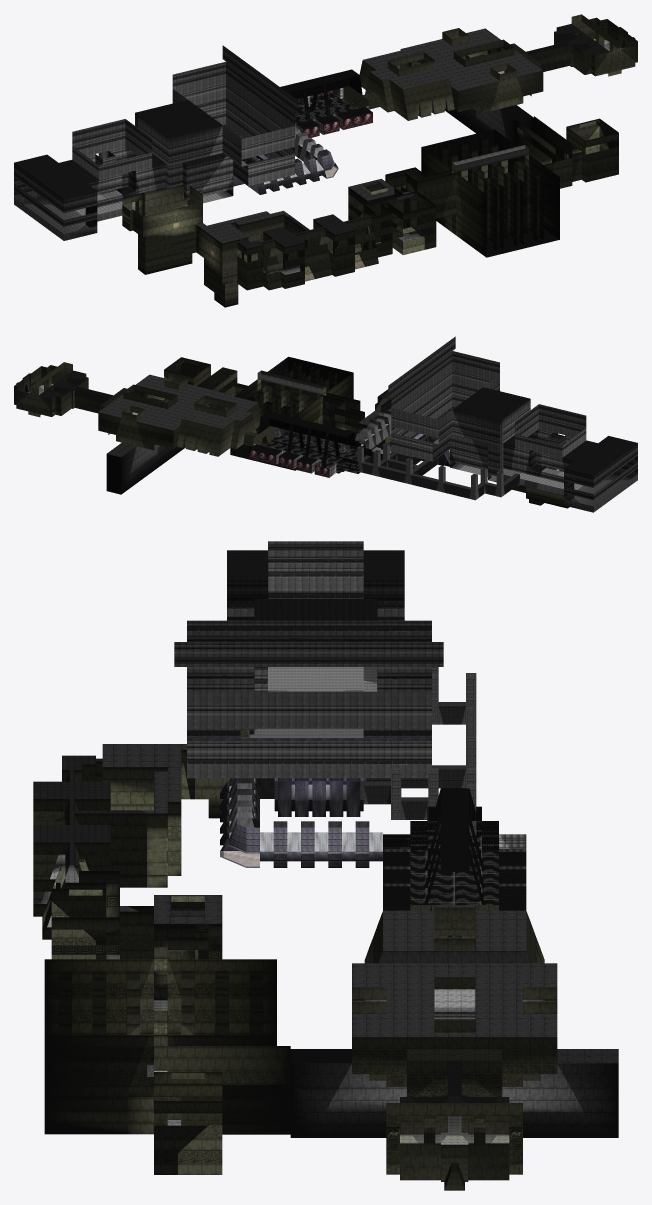
Rendered from Aztec.glb.
3 views of the same model, one above another, from view 1: azimuth 30°, elevation 25°; view 2: azimuth 150°, elevation 25°; view 3: azimuth 270°, elevation 25° (orthographic). The views are drawn at different scales.
Parts seen in each view (by area): view 1: Aztec; view 2: Aztec; view 3: Aztec.
Part boxes in pixels (x1,y1,x2,y2): Aztec: [14, 14, 637, 307]; Aztec: [14, 336, 637, 512]; Aztec: [33, 541, 618, 1190].
Size of the model in its own units: 620 by 162 by 279.
98 materials, 97 textured.
